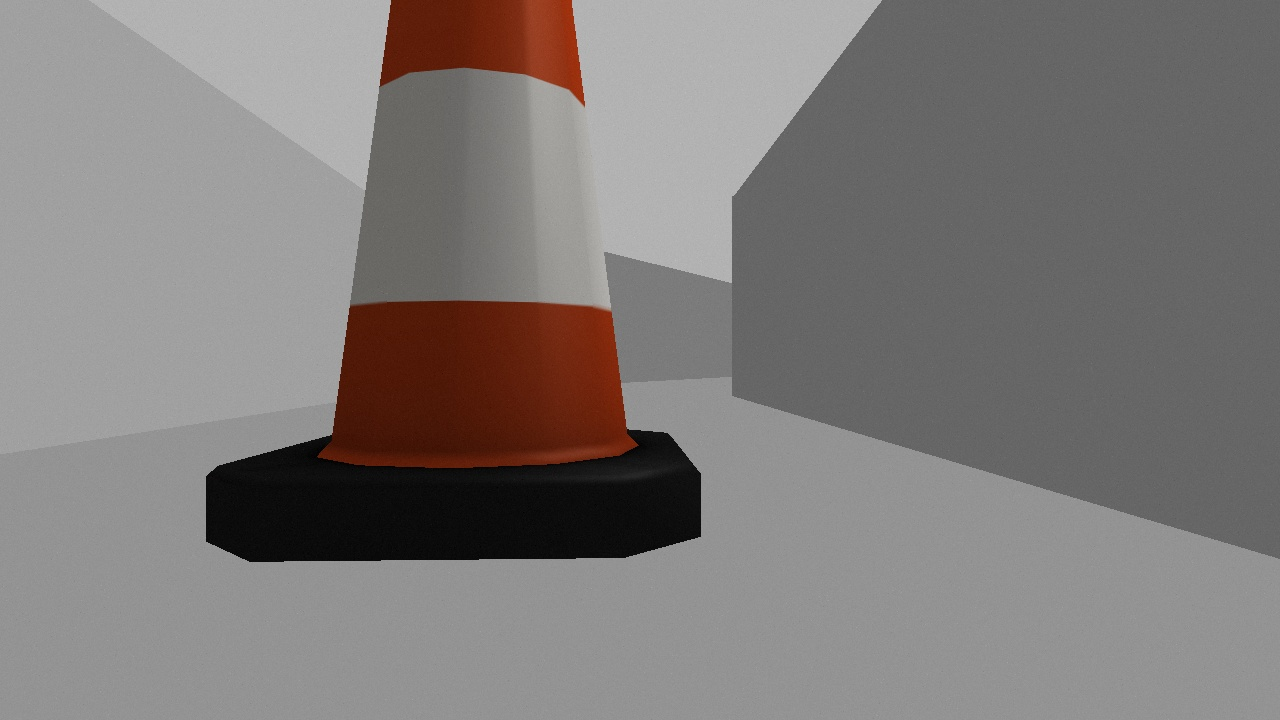barricade: (164, 1, 727, 585)
